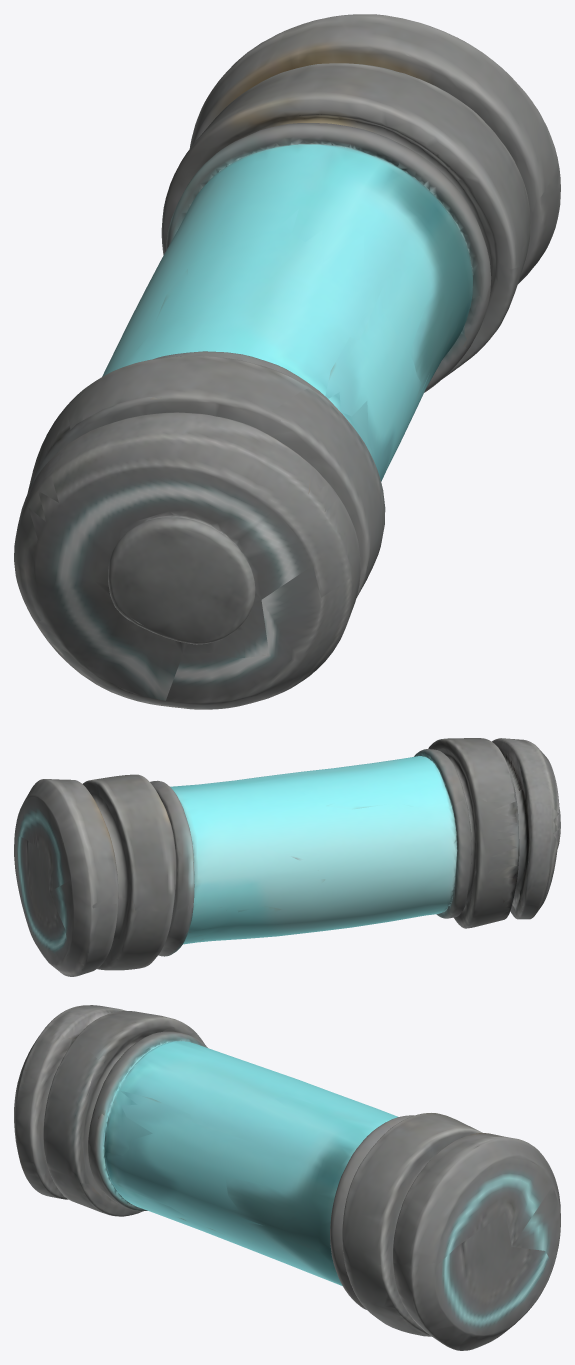
Rendered from Artifact_TC3.fbx.
3 views of the same model, one above another, from view 1: azimuth 30°, elevation 25°; view 2: azimuth 150°, elevation 25°; view 3: azimuth 270°, elevation 25° (orthographic). The views are drawn at different scales.
Parts seen in each view (by area): view 1: Body_TC3; view 2: Body_TC3; view 3: Body_TC3.
Part boxes in pixels (x1=…): Body_TC3: x1=14, y1=14, x2=560, y2=709; Body_TC3: x1=14, y1=738, x2=560, y2=976; Body_TC3: x1=14, y1=1005, x2=560, y2=1350.
Bounding box in the file's own units: 0.2346 × 0.0974 × 0.24.
